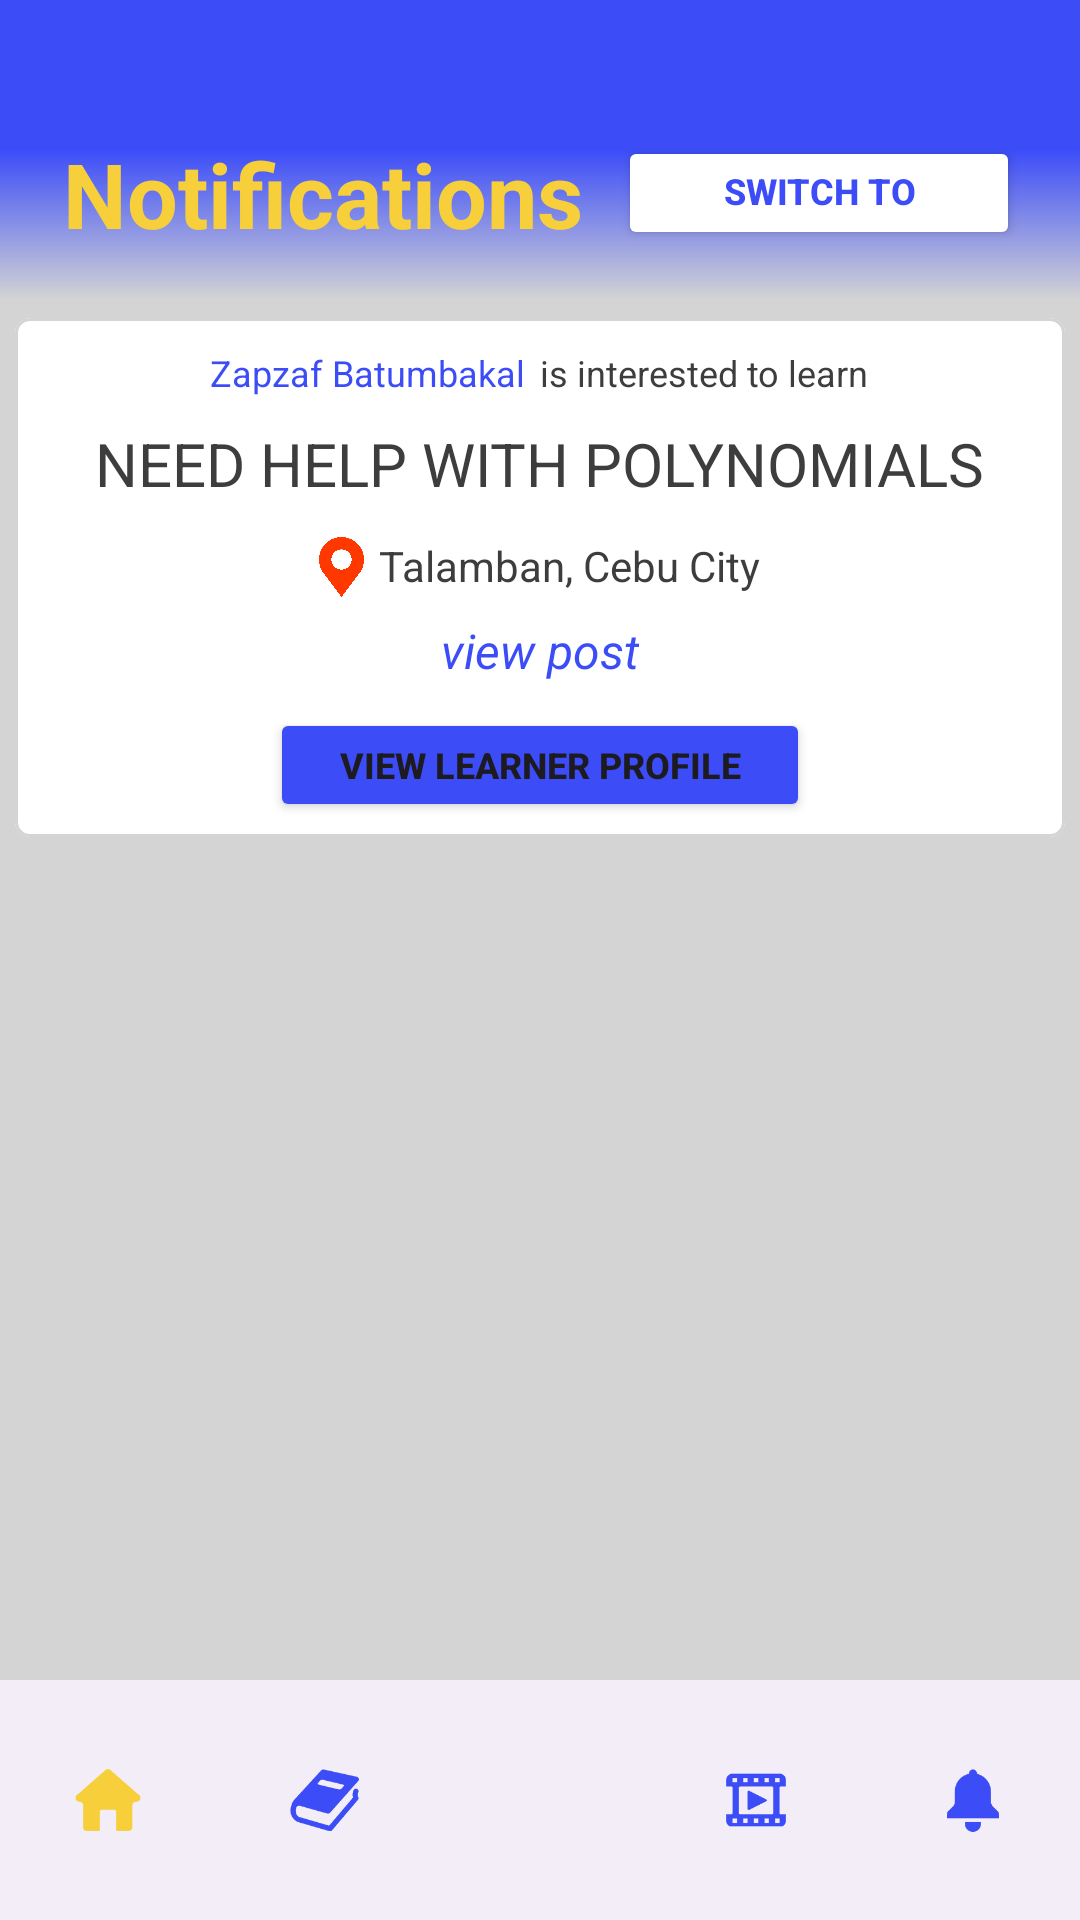

Locate icon controls on the screen. Image size 1080x1920, boxes as Rect(x1, y1, x2, y2).
map pin: Rect(319, 537, 364, 597)
